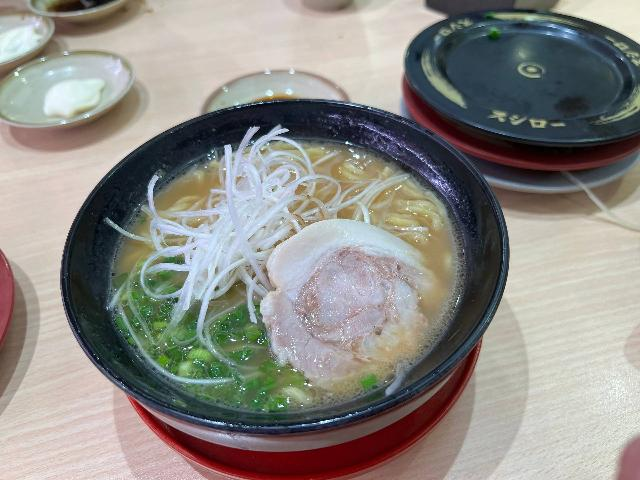janback: (413, 38, 638, 119)
janred: (80, 362, 488, 463), (406, 111, 640, 176), (0, 256, 23, 343)
janwhite: (442, 170, 628, 197)
